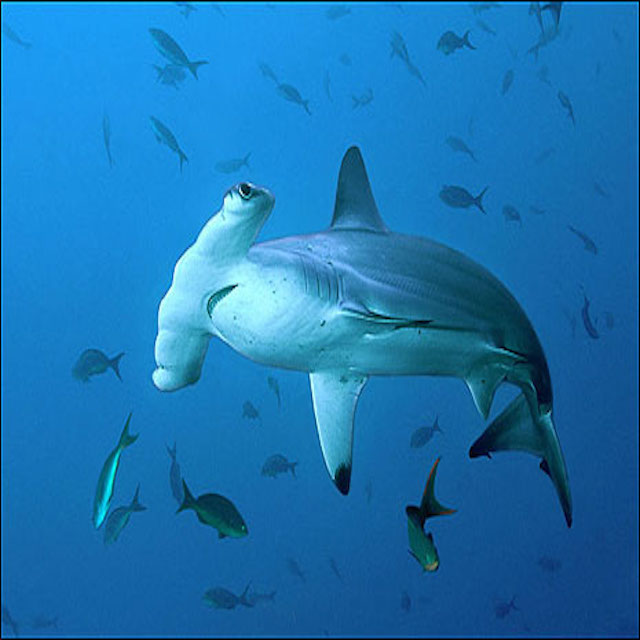hammerhead: (150, 141, 580, 530)
